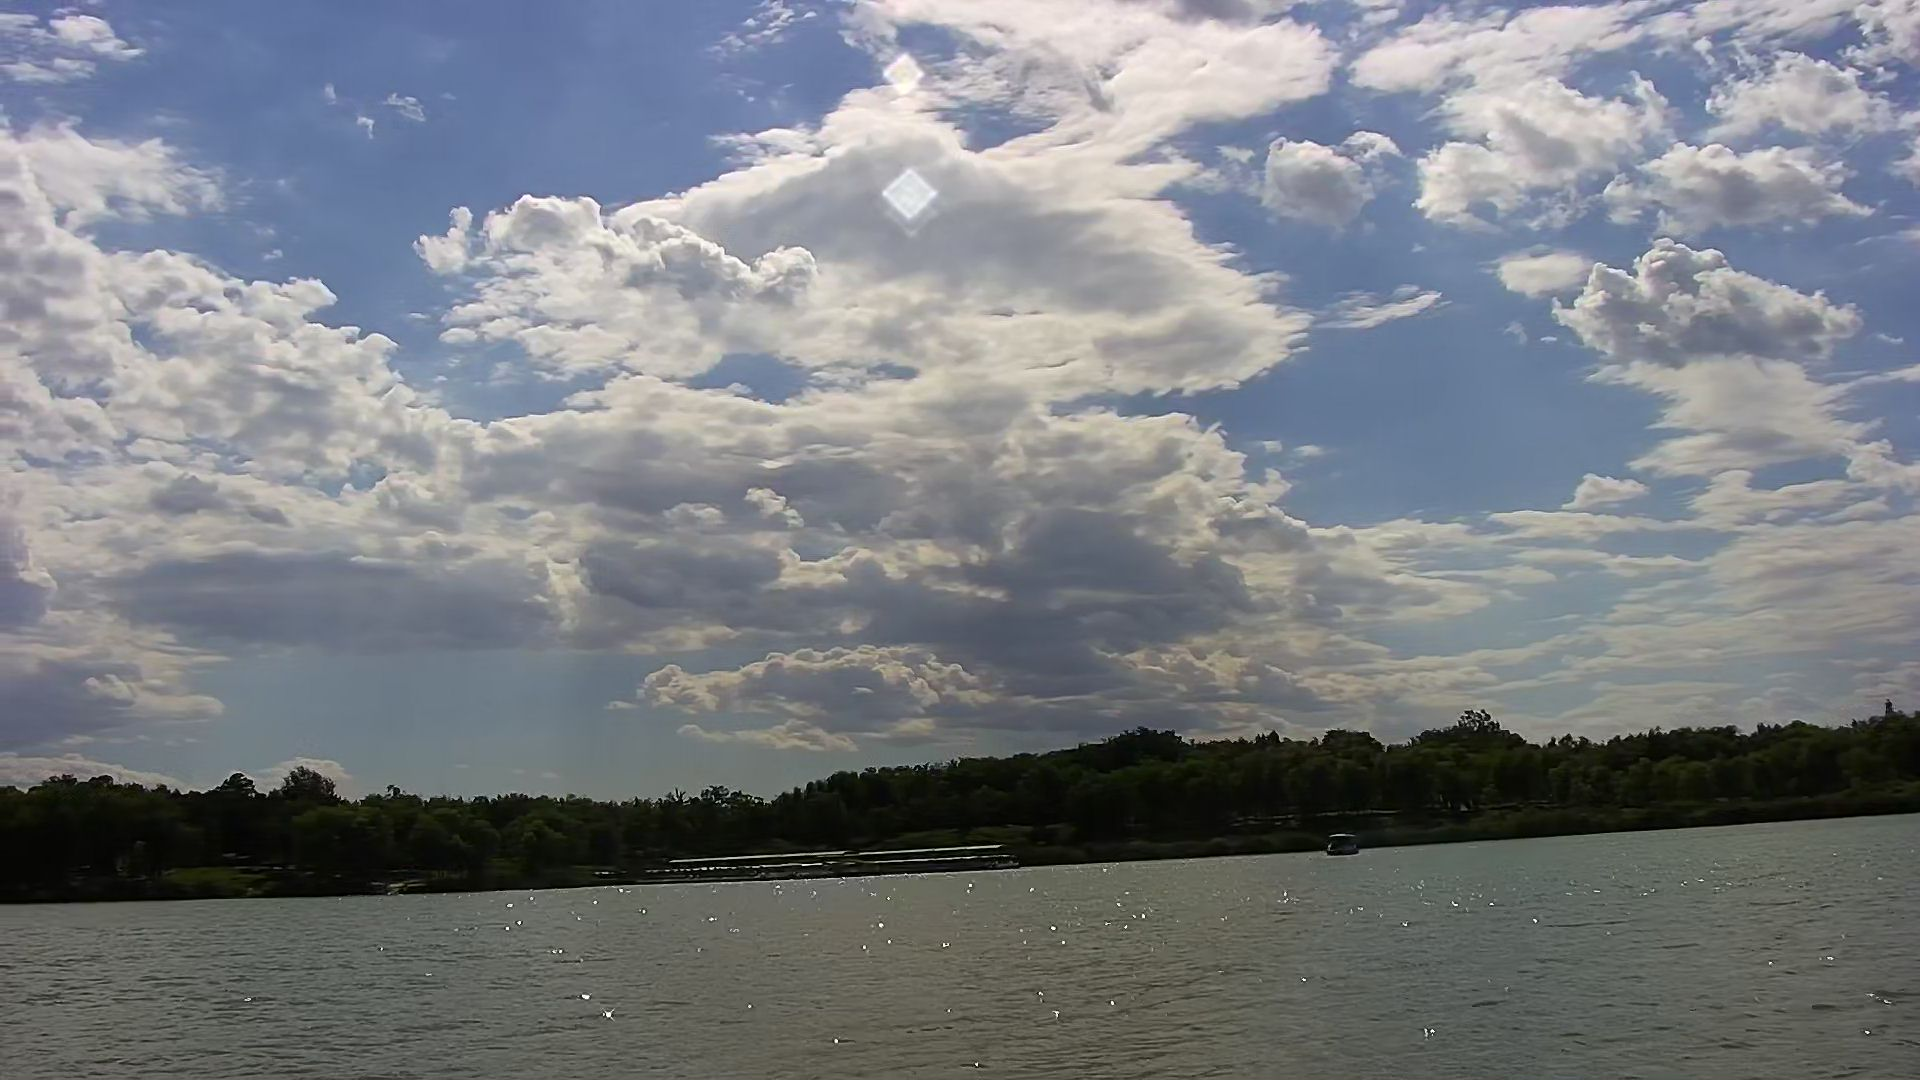boat: (1317, 825, 1364, 862)
harbor: (647, 840, 1023, 881)
